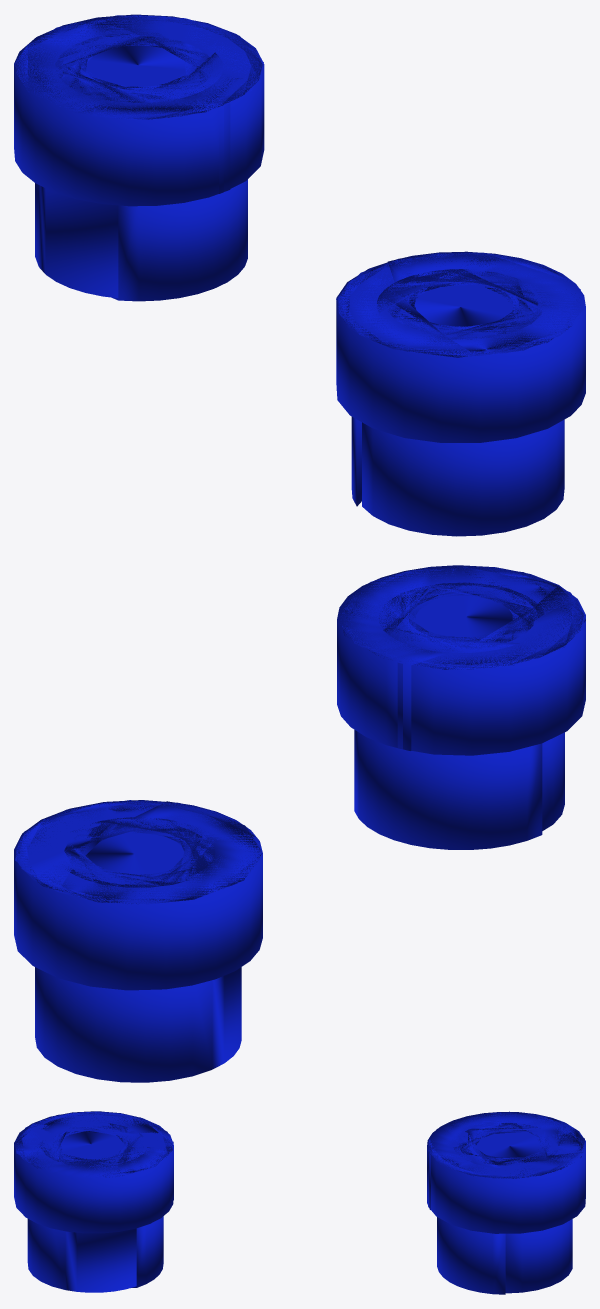
Rendered from tuyeau_element_000043.obj.
3 renders of one model, top to bottom at view 1: azimuth 30°, elevation 25°; view 2: azimuth 150°, elevation 25°; view 3: azimuth 270°, elevation 25°, orthographic. The views are drawn at different scales.
Visible parts, largest first — view 1: tuyeau1_Cube.014, tuyeau2_Cube.017; view 2: tuyeau2_Cube.017, tuyeau1_Cube.014; view 3: tuyeau2_Cube.017, tuyeau1_Cube.014.
Boxes of the visible parts, x1,y1,x2,y2 form: tuyeau1_Cube.014: (14, 14, 264, 301); tuyeau2_Cube.017: (336, 251, 585, 536); tuyeau2_Cube.017: (337, 565, 585, 849); tuyeau1_Cube.014: (14, 800, 262, 1082); tuyeau2_Cube.017: (14, 1111, 173, 1292); tuyeau1_Cube.014: (427, 1111, 585, 1294).
Bounding box in the file's own units: 3546 × 2917 × 12619.
